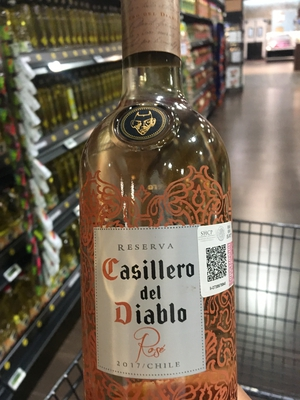casillero del diablo rose: (77, 23, 254, 390)
